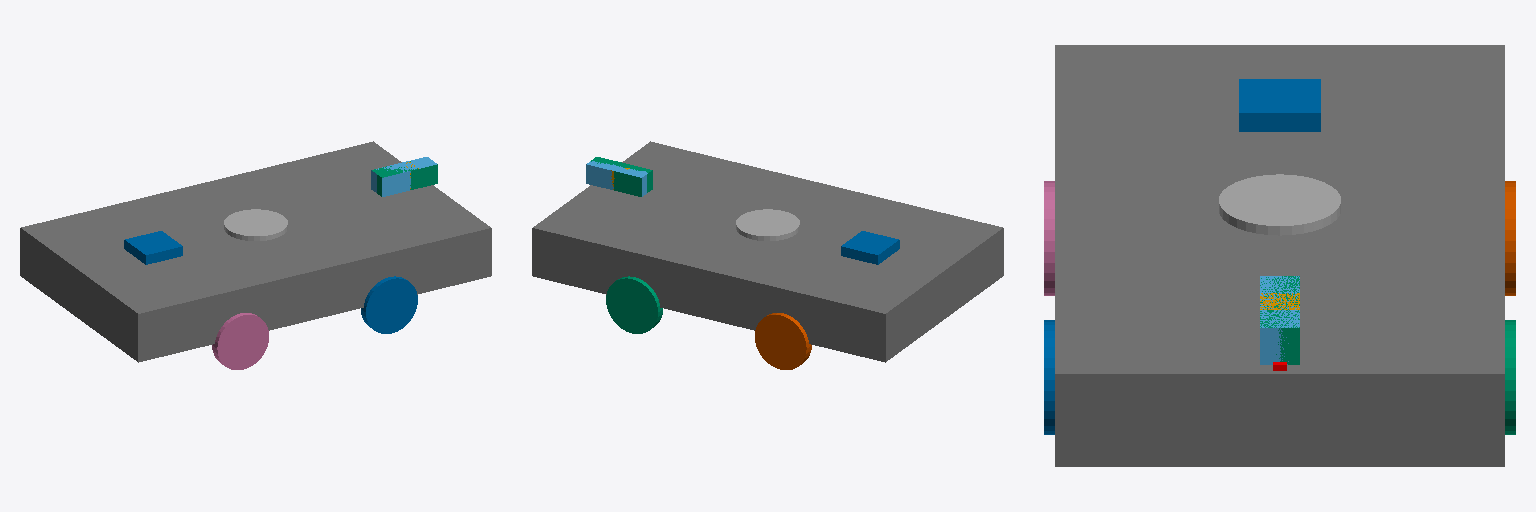
The robot description file, URDF, robot "hamma_bot":
<?xml version="1.0"?>
  <robot name="hamma_bot"
  xmlns:xacro="http://ros.org/wiki/xacro">


  <link name="base_link">
    <visual>
      <origin xyz="0 0 0" rpy="0 0 0"/>
      <geometry>
        <box size="3.8 2.2 0.5"/>
      </geometry>
      <material name="gray">
        <color rgba="0.5 0.5 0.5 1"/>
      </material>
    </visual>
    <collision>
      <origin xyz="0 0 0" rpy="0 0 0"/>
      <geometry>
        <box size="3.8 2.2 0.5"/>
      </geometry>
    </collision>
    <inertial>
      <mass value="10"/>
      <inertia ixx="1" iyy="1" izz="1" ixy="0" ixz="0" iyz="0"/>
    </inertial>
  </link>

  <!-- <link name="base_footprint" />
  
  <joint name="base_joint" type="fixed">
    <parent link="base_footprint"/>
    <child link="base_link"/>
    <origin xyz="0.0 0.0 1.0" rpy="0 0 0"/>
  </joint> -->


  <!-- <joint name="base_joint" type="fixed">
    <parent link="odom"/>
    <child link="base_link"/>
    <origin xyz="0.0 0.0 1.0" rpy="0 0 0"/>
  </joint> -->

  <!-- <link name="base_footprint" /> -->



  <!-- FRONT LEFT steering -->
  <link name="steer_link_fl">
    <inertial>
      <origin xyz="0 0 0" rpy="0 0 0"/>
      <mass value="0.1"/>
      <inertia ixx="0.0001" ixy="0.0" ixz="0.0" iyy="0.0001" iyz="0.0" izz="0.0001"/>
    </inertial>
  </link>
  
  <joint name="front_left_steering_joint" type="revolute">
    <parent link="base_link"/>
    <child link="steer_link_fl"/>
    <origin xyz="0.8 1.1 -0.28" rpy="0 0 0"/>
    <axis xyz="0 0 1"/>
    <limit lower="-0.6" upper="0.6" effort="10" velocity="1"/>
  </joint>

  <link name="wheel_fl">
    <visual>
      <geometry>
        <cylinder radius="0.28" length="0.1"/>
      </geometry>
    </visual>
    <collision>
      <geometry>
        <cylinder radius="0.28" length="0.1"/>
      </geometry>
    </collision>
    <inertial>
      <mass value="1"/>
      <inertia ixx="0.1" iyy="0.1" izz="0.1" ixy="0" ixz="0" iyz="0"/>
    </inertial>
  </link>

  <joint name="front_left_wheel_joint" type="continuous">
    <parent link="steer_link_fl"/>
    <child link="wheel_fl"/>
    <origin xyz="0 0 0" rpy="1.5708 0 0"/>
    <axis xyz="0 0 1"/>
  </joint>

  <!-- FRONT RIGHT steering -->
  <link name="steer_link_fr">
    <inertial>
    <origin xyz="0 0 0" rpy="0 0 0"/>
    <mass value="0.1"/>
    <inertia
      ixx="0.0001" ixy="0.0" ixz="0.0"
      iyy="0.0001" iyz="0.0"
      izz="0.0001"/>
    </inertial>
  </link>

  <joint name="front_right_steering_joint" type="revolute">
    <parent link="base_link"/>
    <child link="steer_link_fr"/>
    <origin xyz="0.8 -1.1 -0.28" rpy="0 0 0"/>
    <axis xyz="0 0 1"/>
    <limit lower="-0.6" upper="0.6" effort="10" velocity="1"/>
  </joint>

  <link name="wheel_fr">
    <visual>
      <geometry>
        <cylinder radius="0.28" length="0.1"/>
      </geometry>
    </visual>
    <collision>
      <geometry>
        <cylinder radius="0.28" length="0.1"/>
      </geometry>
    </collision>
    <inertial>
      <mass value="1"/>
      <inertia ixx="0.1" iyy="0.1" izz="0.1" ixy="0" ixz="0" iyz="0"/>
    </inertial>
  </link>

  <joint name="front_right_wheel_joint" type="continuous">
    <parent link="steer_link_fr"/>
    <child link="wheel_fr"/>
    <origin xyz="0 0 0" rpy="1.5708 0 0"/>
    <axis xyz="0 0 1"/>
  </joint>

  <!-- REAR LEFT -->
  <link name="wheel_rl">
    <visual>
      <geometry>
        <cylinder radius="0.28" length="0.1"/>
      </geometry>
    </visual>
    <collision>
      <geometry>
        <cylinder radius="0.28" length="0.1"/>
      </geometry>
    </collision>
    <inertial>
      <mass value="1"/>
      <inertia ixx="0.1" iyy="0.1" izz="0.1" ixy="0" ixz="0" iyz="0"/>
    </inertial>
  </link>
  
  <joint name="rear_left_wheel_joint" type="continuous">
    <parent link="base_link"/>
    <child link="wheel_rl"/>
    <origin xyz="-0.8 1.1 -0.28" rpy="1.5708 0 0"/>
    <axis xyz="0 0 1"/>
  </joint>


  <!-- REAR RIGHT -->
  <link name="wheel_rr">
    <visual>
      <geometry>
        <cylinder radius="0.28" length="0.1"/>
      </geometry>
    </visual>
    <collision>
      <geometry>
        <cylinder radius="0.28" length="0.1"/>
      </geometry>
    </collision>
    <inertial>
      <mass value="1"/>
      <inertia ixx="0.1" iyy="0.1" izz="0.1" ixy="0" ixz="0" iyz="0"/>
    </inertial>
  </link>

  <joint name="rear_right_wheel_joint" type="continuous">
    <parent link="base_link"/>
    <child link="wheel_rr"/>
    <origin xyz="-0.8 -1.1 -0.28" rpy="1.5708 0 0"/>
    <axis xyz="0 0 1"/>
  </joint>

  <!-- Sensors -->

  <!-- Lidar -->

  <link name="lidar_link">
    <visual>
      <geometry>
        <cylinder radius="0.3" length="0.1"/>
      </geometry>
    </visual>
  </link>

  <joint name="base_link_to_lidar" type="fixed">
    <parent link="base_link"/>
    <child link="lidar_link"/>
    <origin xyz="0 0 0.25" rpy="0 0 0"/>
  </joint>

  <!-- Camera Frame -->

  <link name="camera_frame">
    <visual>
      <geometry>
        <box size="0.2 0.2 0.2"/>
      </geometry>
    </visual>
  </link>

  <joint name="base_link_to_camera_frame" type="fixed">
    <parent link="base_link"/>
    <child link="camera_frame"/>
    <origin xyz="1.6 0 0.4" rpy="0 0 0"/>
  </joint>

  <!-- Camera -->
  <link name="camera_link_right">
    <visual>
      <geometry>
        <box size="0.2 0.6 0.2"/>
      </geometry>
    </visual>
  </link>

  <joint name="camera_joint_right" type="fixed">
    <parent link="base_link"/>
    <child link="camera_link_right"/>
    <origin xyz="1.6 0 0.4" rpy="0 0 1.5708"/>
  </joint>

  <link name="camera_link_left">
    <visual>
      <geometry>
        <box size="0.2 0.6 0.2"/>
      </geometry>
    </visual>
  </link>

  <joint name="camera_joint_left" type="fixed">
    <parent link="base_link"/>
    <child link="camera_link_left"/>
    <origin xyz="1.6 0 0.4" rpy="0 0 -1.5708"/>
  </joint>

  <!-- Top Camera Link (front of robot, pointing forward) -->
  <link name="camera_front_link">
    <visual>
      <geometry>
        <box size="0.07 0.07 0.03"/>
      </geometry>
      <material name="red">
        <color rgba="1 0 0 1"/>
      </material>
    </visual>
  </link>

  <joint name="camera_top_joint" type="fixed">
    <parent link="base_link"/>
    <child link="camera_front_link"/>
    <origin xyz="1.9 0 0.3" rpy="0 0 0"/>
  </joint>

  <!-- IMU -->

  <link name="imu_link">
    <visual>
      <geometry>
        <box size="0.4 0.4 0.3"/>
      </geometry>
    </visual>
  </link>

  <joint name="base_link_to_imu" type="fixed">
    <parent link="base_link"/>
    <child link="imu_link"/>
    <origin xyz="-1.1 0 0.2" rpy="0 0 0"/>
  </joint>

  <!-- Gazebo Plugins -->

  <plugin name='ignition::gazebo::systems::Physics' filename='ignition-gazebo-physics-system'/>
  <plugin name='ignition::gazebo::systems::UserCommands' filename='ignition-gazebo-user-commands-system'/>
  <plugin name='ignition::gazebo::systems::SceneBroadcaster' filename='ignition-gazebo-scene-broadcaster-system'/>
  <plugin filename="ignition-gazebo-sensors-system" name="ignition::gazebo::systems::Sensors">
    <render_engine>ogre2</render_engine>
  </plugin>
    
  <gui>
    <camera name='gzclient_camera'>
      <pose>-5.73 3.76 8.10 0 1.1316 -0.4398</pose>
    </camera>
  </gui>

  <gazebo reference="camera_link_right">
    <sensor name="robot_cam_right" type="camera">
      <camera>
        <horizontal_fov>1.047</horizontal_fov>
        <image>
          <width>320</width>
          <height>240</height>
        </image>
        <clip>
          <near>0.1</near>
          <far>100</far>
        </clip>
      </camera>
      <always_on>1</always_on>
      <update_rate>30</update_rate>
      <visualize>true</visualize>
      <topic>robot_cam_right</topic>
      <enable_metrics>true</enable_metrics>
    </sensor>
  </gazebo>

  <gazebo reference="camera_link_left">
    <sensor name="robot_cam_left" type="camera">
      <camera>
        <horizontal_fov>1.047</horizontal_fov>
        <image>
          <width>320</width>
          <height>240</height>
        </image>
        <clip>
          <near>0.1</near>
          <far>100</far>
        </clip>
      </camera>
      <always_on>1</always_on>
      <update_rate>30</update_rate>
      <visualize>true</visualize>
      <topic>robot_cam_left</topic>
      <enable_metrics>true</enable_metrics>
    </sensor>
  </gazebo>





  <gazebo reference="imu_link">
    <sensor name="imu_sensor" type="imu">
      <ignition_frame_id>imu_link</ignition_frame_id>
      <plugin filename="ignition-gazebo-imu-system" name="ignition::gazebo::systems::Imu">
      </plugin>

      <topic>imu</topic>
      <always_on>true</always_on>
      <update_rate>100</update_rate>
      <visualize>true</visualize>
      <imu>
        <angular_velocity>
          <x>
            <noise type="gaussian">
              <mean>0.0</mean>
              <stddev>2e-4</stddev>
              <bias_mean>0.0000075</bias_mean>
              <bias_stddev>0.0000008</bias_stddev>
            </noise>
          </x>
          <y>
            <noise type="gaussian">
              <mean>0.0</mean>
              <stddev>2e-4</stddev>
              <bias_mean>0.0000075</bias_mean>
              <bias_stddev>0.0000008</bias_stddev>
            </noise>
          </y>
          <z>
            <noise type="gaussian">
              <mean>0.0</mean>
              <stddev>2e-4</stddev>
              <bias_mean>0.0000075</bias_mean>
              <bias_stddev>0.0000008</bias_stddev>
            </noise>
          </z>
        </angular_velocity>
        <linear_acceleration>
          <x>
            <noise type="gaussian">
              <mean>0.0</mean>
              <stddev>1.7e-2</stddev>
              <bias_mean>0.1</bias_mean>
              <bias_stddev>0.001</bias_stddev>
            </noise>
          </x>
          <y>
            <noise type="gaussian">
              <mean>0.0</mean>
              <stddev>1.7e-2</stddev>
              <bias_mean>0.1</bias_mean>
              <bias_stddev>0.001</bias_stddev>
            </noise>
          </y>
          <z>
            <noise type="gaussian">
              <mean>0.0</mean>
              <stddev>1.7e-2</stddev>
              <bias_mean>0.1</bias_mean>
              <bias_stddev>0.001</bias_stddev>
            </noise>
          </z>
        </linear_acceleration>
      </imu>
    </sensor>
  </gazebo>


  <ros2_control name="IgnitionSystem" type="system">
  <hardware>
    <plugin>ign_ros2_control/IgnitionSystem</plugin>
  </hardware>

  <!-- Rear driving wheels -->
  <joint name="rear_left_wheel_joint">
    <command_interface name="velocity">
      <param name="min">-100.0</param>
      <param name="max">100.0</param>
    </command_interface>
    <state_interface name="velocity"/>
    <state_interface name="position"/>
  </joint>

  <joint name="rear_right_wheel_joint">
    <command_interface name="velocity">
      <param name="min">-100.0</param>
      <param name="max">100.0</param>
    </command_interface>
    <state_interface name="velocity"/>
    <state_interface name="position"/>
  </joint>

  <!-- Front steering joints -->
  <joint name="front_left_steering_joint">
    <command_interface name="position"/>
    <state_interface name="position"/>
    <state_interface name="velocity"/>
  </joint>

  <joint name="front_right_steering_joint">
    <command_interface name="position"/>
    <state_interface name="position"/>
    <state_interface name="velocity"/>
  </joint>

  <joint name="front_left_wheel_joint">
    <state_interface name="velocity"/>
    <state_interface name="position"/>
  </joint>

  <joint name="front_right_wheel_joint">
    <state_interface name="velocity"/>
    <state_interface name="position"/>
  </joint>

</ros2_control>

  <gazebo>
    <plugin filename="ign_ros2_control-system" name="ign_ros2_control::IgnitionROS2ControlPlugin">
      <parameters>[local-path]/Desktop/naor/study/Thesis/src/ground_bot/config/ackermann_controller.yaml</parameters>
    </plugin>
  </gazebo>


  <gazebo reference="lidar_link">
    <sensor name="lidar" type="gpu_lidar">
      <ignition_frame_id>lidar_link</ignition_frame_id>
      <topic>scan</topic>
      <always_on>true</always_on>
      <visualize>true</visualize>
      <update_rate>5</update_rate>
      <ray>
        <scan>
          <horizontal>
            <samples>360</samples>
            <resolution>1.000000</resolution>
            <min_angle>0.000000</min_angle>
            <max_angle>6.280000</max_angle>
          </horizontal>
        </scan>
        <range>
          <min>0.120000</min>
          <max>3.5</max>
          <resolution>0.015000</resolution>
        </range>
        <noise>
          <type>gaussian</type>
          <mean>0.0</mean>
          <stddev>0.01</stddev>
        </noise>
      </ray>
    </sensor>
  </gazebo>




</robot>

--- Facts derived from the render (not from the file) ---
The picture shows the robot from 3 angles, left to right: view 1: azimuth 30°, elevation 25°; view 2: azimuth 150°, elevation 25°; view 3: azimuth 270°, elevation 25°; orthographic projection.
Model hamma_bot with 13 links and 12 joints (2 revolute, 4 continuous, 6 fixed), rooted at base_link, posed every joint at zero.
Visible links, largest first — view 1: base_link, wheel_fr, wheel_rr, lidar_link, imu_link, camera_link_right, camera_link_left; view 2: base_link, wheel_fl, wheel_rl, lidar_link, imu_link, camera_link_right, camera_link_left; view 3: base_link, lidar_link, imu_link, camera_link_right, camera_link_left, wheel_fl, wheel_fr, wheel_rl, wheel_rr.
Boxes of the visible links, x1=… form: base_link: x1=20, y1=141, x2=491, y2=362; wheel_fr: x1=361, y1=276, x2=417, y2=333; wheel_rr: x1=212, y1=313, x2=268, y2=369; lidar_link: x1=224, y1=209, x2=287, y2=240; imu_link: x1=124, y1=231, x2=182, y2=264; camera_link_right: x1=371, y1=157, x2=436, y2=196; camera_link_left: x1=372, y1=161, x2=437, y2=196; base_link: x1=532, y1=141, x2=1003, y2=362; wheel_fl: x1=606, y1=276, x2=662, y2=333; wheel_rl: x1=755, y1=313, x2=811, y2=369; lidar_link: x1=736, y1=209, x2=799, y2=240; imu_link: x1=841, y1=231, x2=899, y2=264; camera_link_right: x1=586, y1=161, x2=647, y2=196; camera_link_left: x1=591, y1=157, x2=652, y2=196; base_link: x1=1055, y1=45, x2=1504, y2=466; lidar_link: x1=1219, y1=174, x2=1340, y2=235; imu_link: x1=1239, y1=79, x2=1320, y2=131; camera_link_right: x1=1260, y1=276, x2=1299, y2=364; camera_link_left: x1=1260, y1=276, x2=1299, y2=364; wheel_fl: x1=1505, y1=320, x2=1515, y2=434; wheel_fr: x1=1044, y1=320, x2=1054, y2=434; wheel_rl: x1=1505, y1=181, x2=1515, y2=295; wheel_rr: x1=1044, y1=181, x2=1054, y2=295.
Size in the robot's own frame: 3.83 by 2.3 by 1.06 metres.
Geometry: primitives only (box / cylinder / sphere), no mesh files.
